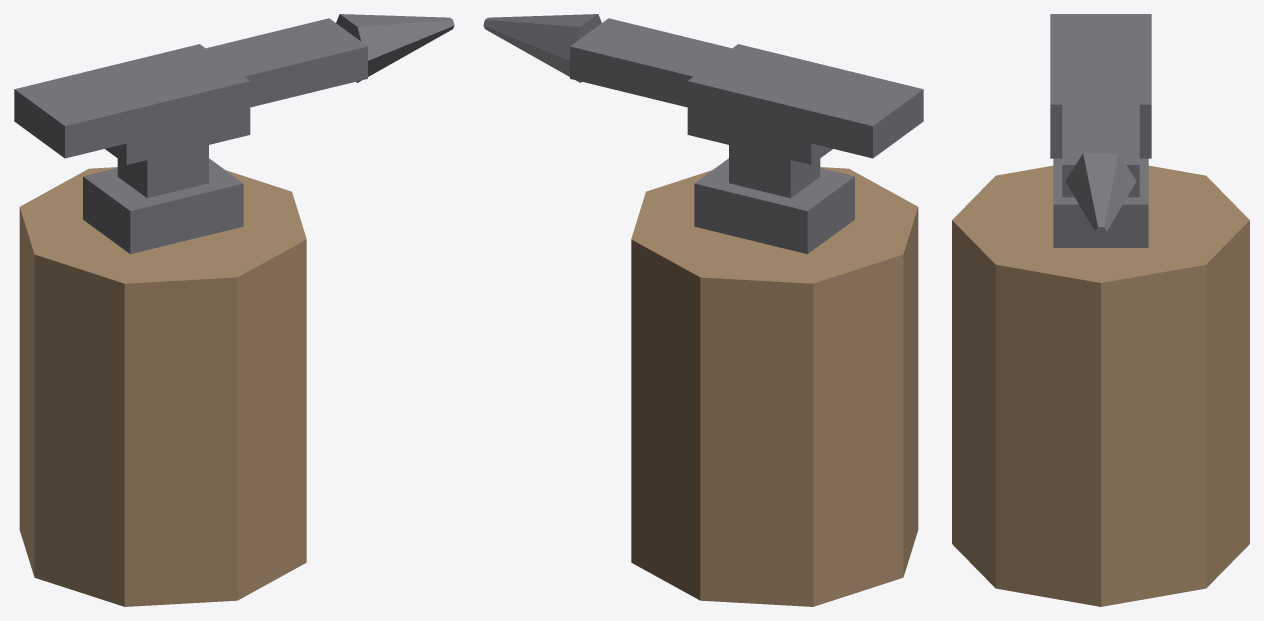
File: prop-anvil-fg1.fbx
The picture shows the model from 3 angles, left to right: view 1: azimuth 30°, elevation 25°; view 2: azimuth 150°, elevation 25°; view 3: azimuth 270°, elevation 25°; orthographic projection.
Parts seen in each view (by area): view 1: prop-anvil-fg1; view 2: prop-anvil-fg1; view 3: prop-anvil-fg1.
Boxes of the visible parts, x1,y1,x2,y2 form: prop-anvil-fg1: [14, 14, 454, 606]; prop-anvil-fg1: [483, 14, 923, 606]; prop-anvil-fg1: [952, 14, 1249, 606].
Bounding box in the file's own units: 0.81 × 0.892 × 0.5.
